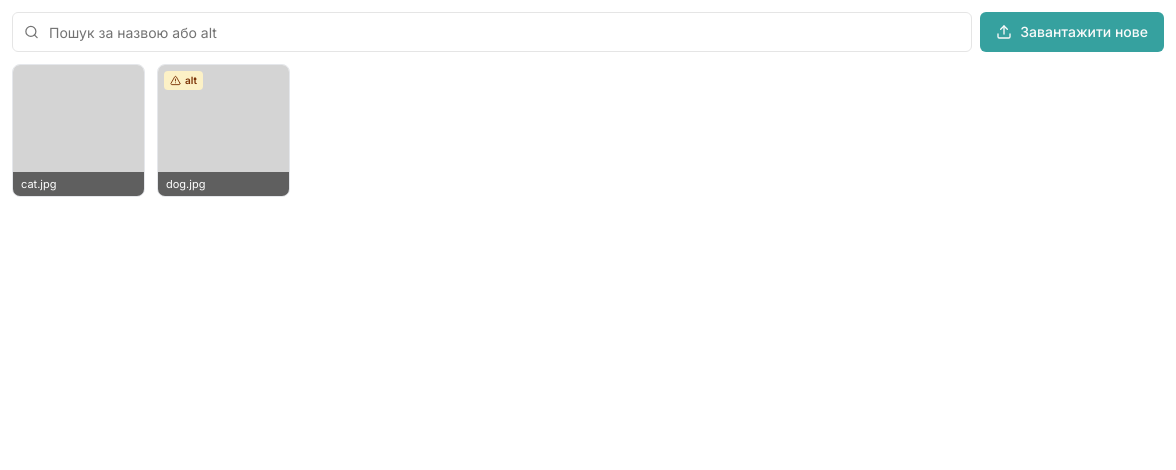
Test: MediaPickerPanel › fills the alt from the AI without saving it
Click the button titled "dog.jpg" at coordinates (224, 130), box [157,64,290,197]
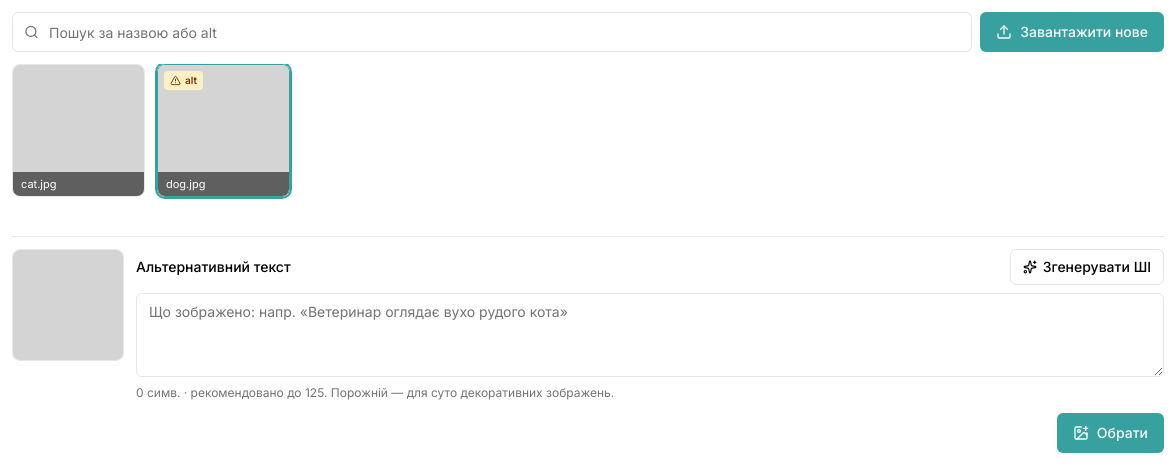
Click the button "Згенерувати ШІ" at coordinates (1087, 267), box [1010,249,1164,285]
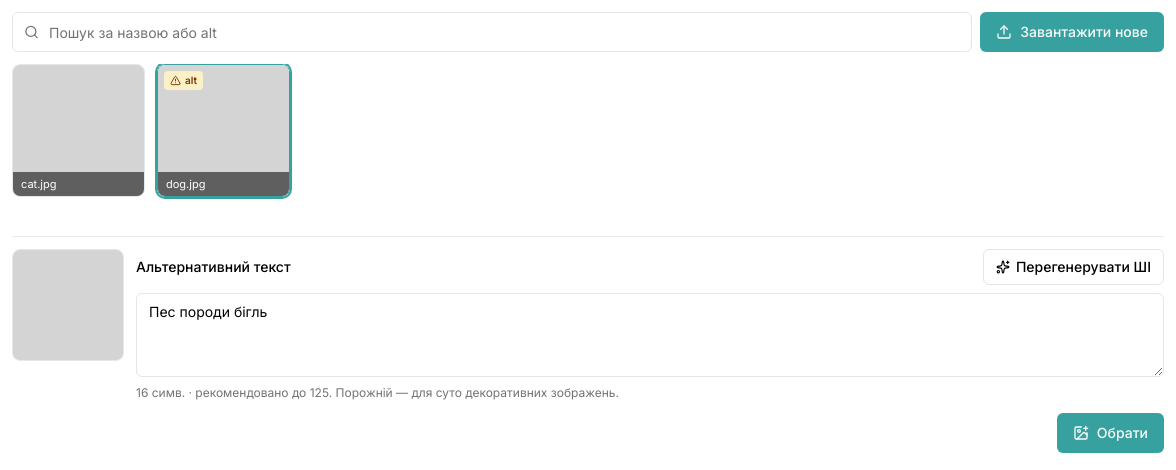
Now the text box labelled "Альтернативний текст" holds "Пес породи бігль", box [136,293,1164,377]
